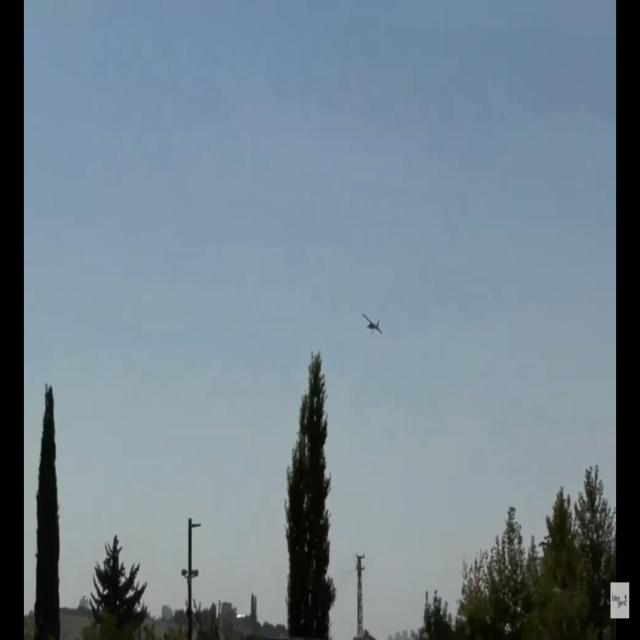iha: (361, 313, 382, 335)
